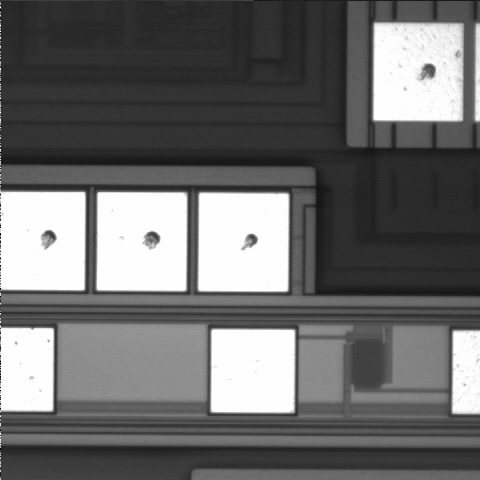pad: (198, 193, 289, 292), (97, 192, 187, 291), (373, 23, 463, 121), (211, 329, 295, 413)
